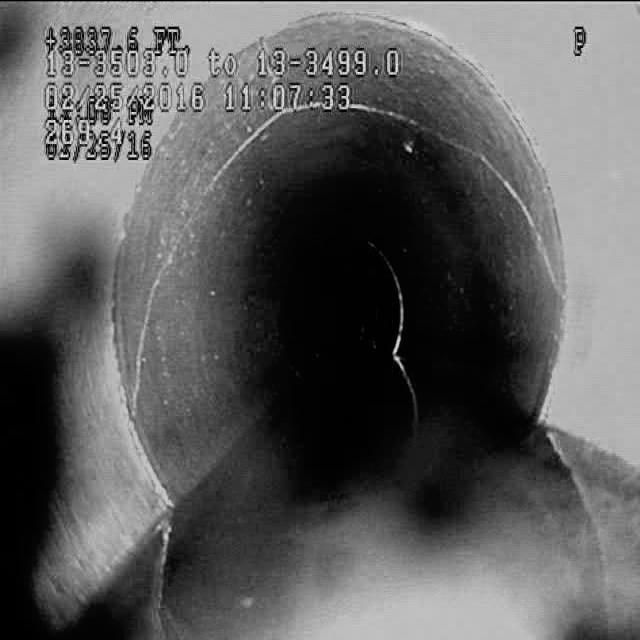Crack: (127, 160, 215, 393), (454, 118, 558, 274)
